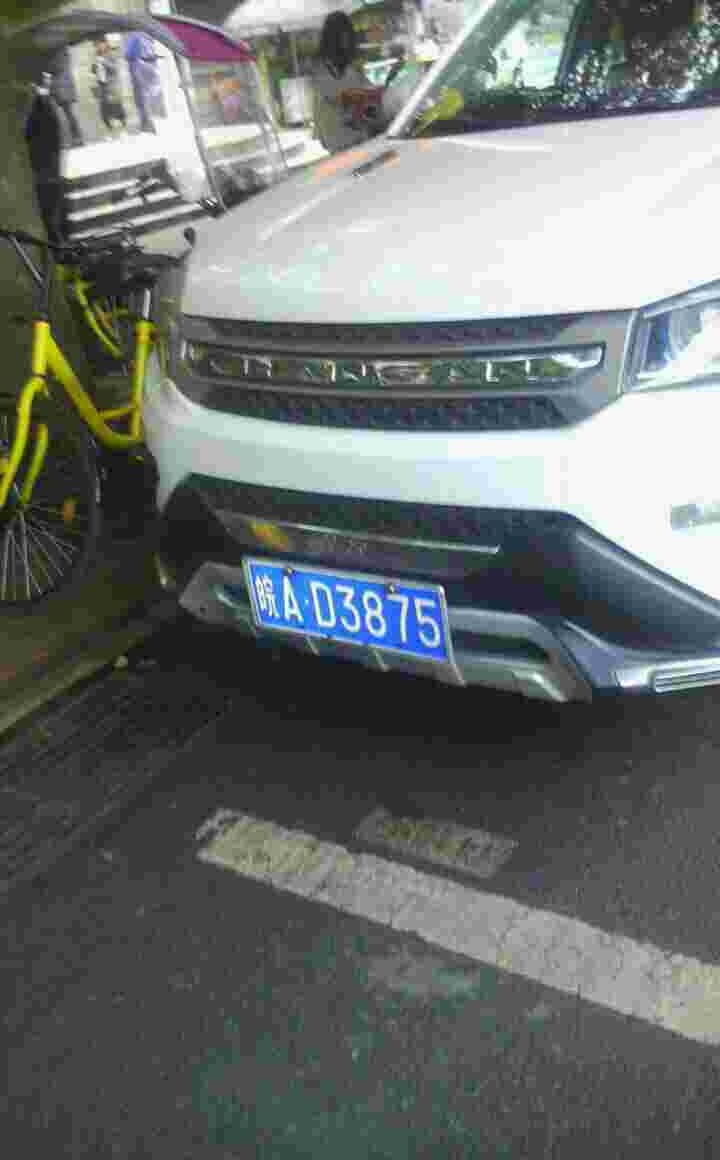license_plate: (254, 566, 449, 663)
